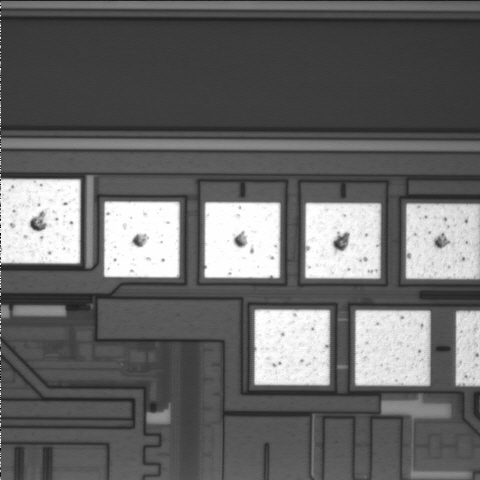pad: (104, 201, 180, 278), (204, 202, 280, 278), (305, 203, 381, 279), (254, 310, 330, 385), (355, 310, 430, 386)
